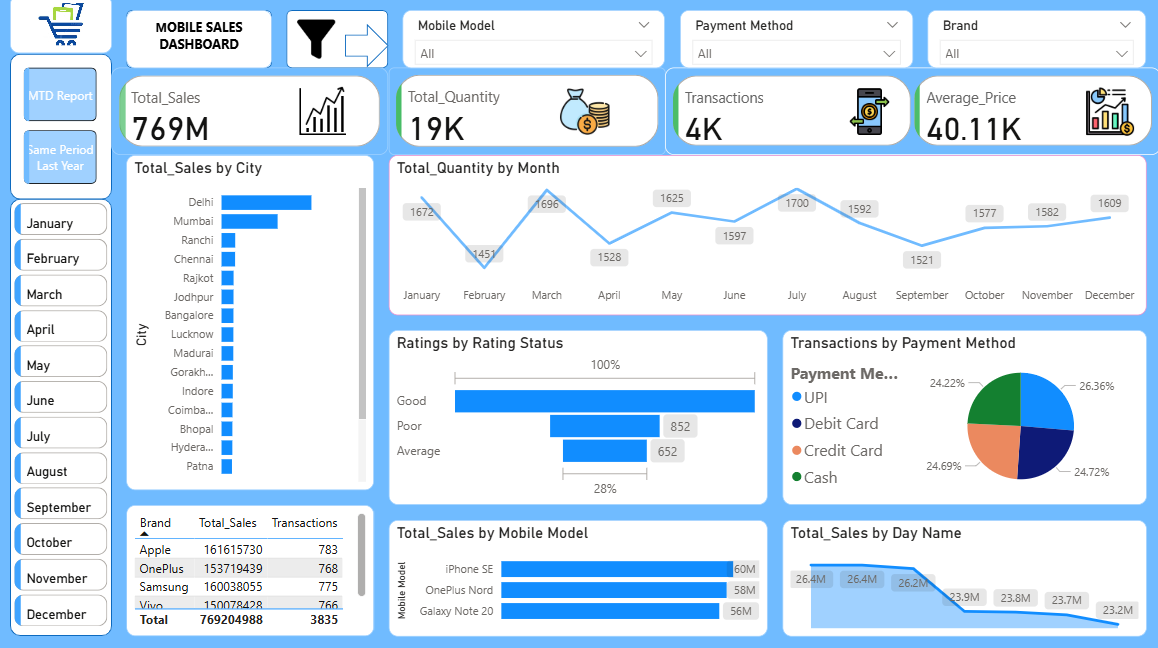

The page's visual inventory and layout, read from the dashboard file:
{"tool":"powerbi","page":{"name":"Dashboard","canvas":[1280,720],"ordinal":0},"visuals":[{"type":"shape","box":[16,64,112,160],"z":0},{"type":"shape","box":[16,224,112,480],"z":1000},{"type":"advancedSlicerVisual","fields":{"Values":["Custom_Calendar.Date.Variation.Date Hierarchy.Month"]},"box":[16,224,112,480],"z":2000},{"type":"cardVisual","fields":{"Data":["Mobile_Sales_Data.Total_Sales"]},"box":[128,80,304,96],"z":3000},{"type":"cardVisual","fields":{"Data":["Mobile_Sales_Data.Total_Quantity"]},"box":[432,80,304,96],"z":4000},{"type":"cardVisual","fields":{"Data":["Mobile_Sales_Data.Transactions","Mobile_Sales_Data.Average_Price"]},"box":[736,80,544,96],"z":5000},{"type":"slicer","fields":{"Values":["Mobile_Sales_Data.Mobile Model"]},"box":[448,16,288,64],"z":6000},{"type":"slicer","fields":{"Values":["Mobile_Sales_Data.Payment Method"]},"box":[752,16,256,64],"z":7000},{"type":"slicer","fields":{"Values":["Mobile_Sales_Data.Brand"]},"box":[1024,16,240,64],"z":8000},{"type":"shape","box":[144,16,160,64],"z":9000},{"type":"barChart","fields":{"Category":["Mobile_Sales_Data.City"],"Y":["Mobile_Sales_Data.Total_Sales"]},"box":[144,176,272,368],"z":10000},{"type":"lineChart","fields":{"Category":["Custom_Calendar.Date.Variation.Date Hierarchy.Month"],"Y":["Mobile_Sales_Data.Total_Quantity"]},"box":[432,176,832,176],"z":11000},{"type":"funnel","title":" Ratings by Rating Status","fields":{"Y":["CountNonNull(Mobile_Sales_Data.Rating Status)"],"Category":["Mobile_Sales_Data.Rating Status"]},"box":[432,368,416,192],"z":12000},{"type":"pieChart","fields":{"Y":["Mobile_Sales_Data.Transactions"],"Category":["Mobile_Sales_Data.Payment Method"]},"box":[864,368,400,192],"z":13000},{"type":"clusteredBarChart","fields":{"Y":["Mobile_Sales_Data.Total_Sales"],"Category":["Mobile_Sales_Data.Mobile Model"]},"box":[432,576,416,128],"z":14000},{"type":"areaChart","fields":{"Category":["Custom_Calendar.Day Name"],"Y":["Mobile_Sales_Data.Total_Sales"]},"box":[864,576,400,128],"z":15000},{"type":"tableEx","fields":{"Values":["Mobile_Sales_Data.Brand","Mobile_Sales_Data.Total_Sales","Mobile_Sales_Data.Transactions"]},"box":[144,560,272,144],"z":16000},{"type":"pageNavigator","box":[32,80,80,128],"z":17000},{"type":"image","box":[16,0,112,64],"z":18000},{"type":"textbox","box":[144,16,160,64],"z":19000},{"type":"image","box":[1184,96,80,64],"z":20000},{"type":"image","box":[592,96,112,64],"z":21000},{"type":"image","box":[320,96,80,64],"z":22000},{"type":"image","box":[896,96,128,64],"z":23000},{"type":"shape","box":[320,16,112,64],"z":24000},{"type":"image","box":[304,16,96,64],"z":25000},{"type":"shape","box":[384,32,48,48],"z":26000}]}

Visuals, with their boxes in screenshot pixels (x1, y1, x2, y2), scaled from the page's 1280x720 canvas onto the 1158x648 screenshot:
shape: box(14, 58, 116, 202)
shape: box(14, 202, 116, 634)
advancedSlicerVisual - Custom_Calendar.Date.Variation.Date Hierarchy.Month: box(14, 202, 116, 634)
cardVisual - Mobile_Sales_Data.Total_Sales: box(116, 72, 391, 158)
cardVisual - Mobile_Sales_Data.Total_Quantity: box(391, 72, 666, 158)
cardVisual - Mobile_Sales_Data.Transactions x Mobile_Sales_Data.Average_Price: box(666, 72, 1157, 158)
slicer - Mobile_Sales_Data.Mobile Model: box(405, 14, 666, 72)
slicer - Mobile_Sales_Data.Payment Method: box(680, 14, 912, 72)
slicer - Mobile_Sales_Data.Brand: box(926, 14, 1144, 72)
shape: box(130, 14, 275, 72)
barChart - Mobile_Sales_Data.City x Mobile_Sales_Data.Total_Sales: box(130, 158, 376, 490)
lineChart - Custom_Calendar.Date.Variation.Date Hierarchy.Month x Mobile_Sales_Data.Total_Quantity: box(391, 158, 1144, 317)
" Ratings by Rating Status" funnel: box(391, 331, 767, 504)
pieChart - Mobile_Sales_Data.Transactions x Mobile_Sales_Data.Payment Method: box(782, 331, 1144, 504)
clusteredBarChart - Mobile_Sales_Data.Total_Sales x Mobile_Sales_Data.Mobile Model: box(391, 518, 767, 634)
areaChart - Custom_Calendar.Day Name x Mobile_Sales_Data.Total_Sales: box(782, 518, 1144, 634)
tableEx - Mobile_Sales_Data.Brand x Mobile_Sales_Data.Total_Sales: box(130, 504, 376, 634)
pageNavigator: box(29, 72, 101, 187)
image: box(14, 0, 116, 58)
textbox: box(130, 14, 275, 72)
image: box(1071, 86, 1144, 144)
image: box(536, 86, 637, 144)
image: box(290, 86, 362, 144)
image: box(811, 86, 926, 144)
shape: box(290, 14, 391, 72)
image: box(275, 14, 362, 72)
shape: box(347, 29, 391, 72)
